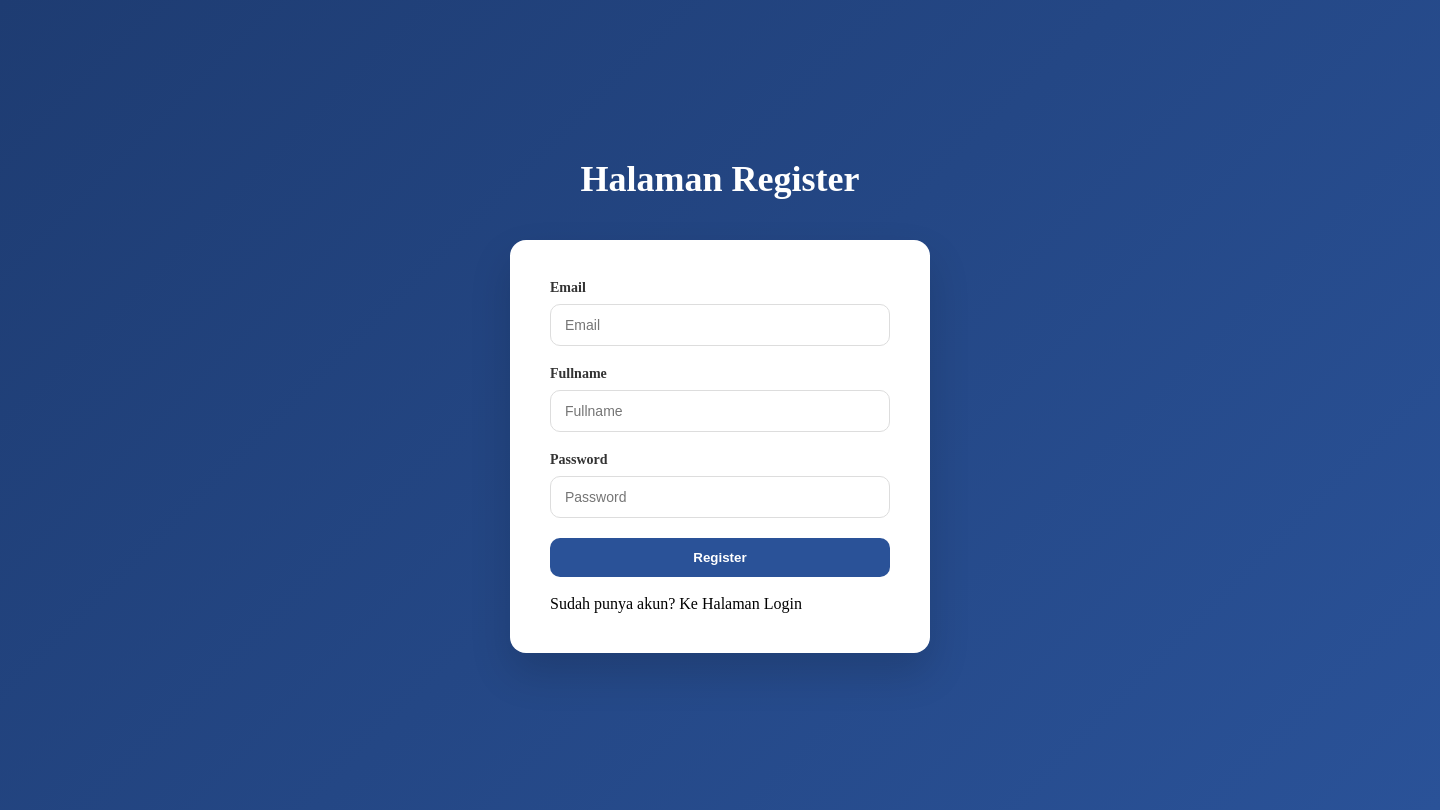
Test: register page › shows general error on failed registration
Click the button "Register" at (720, 557), box [550, 538, 890, 576]
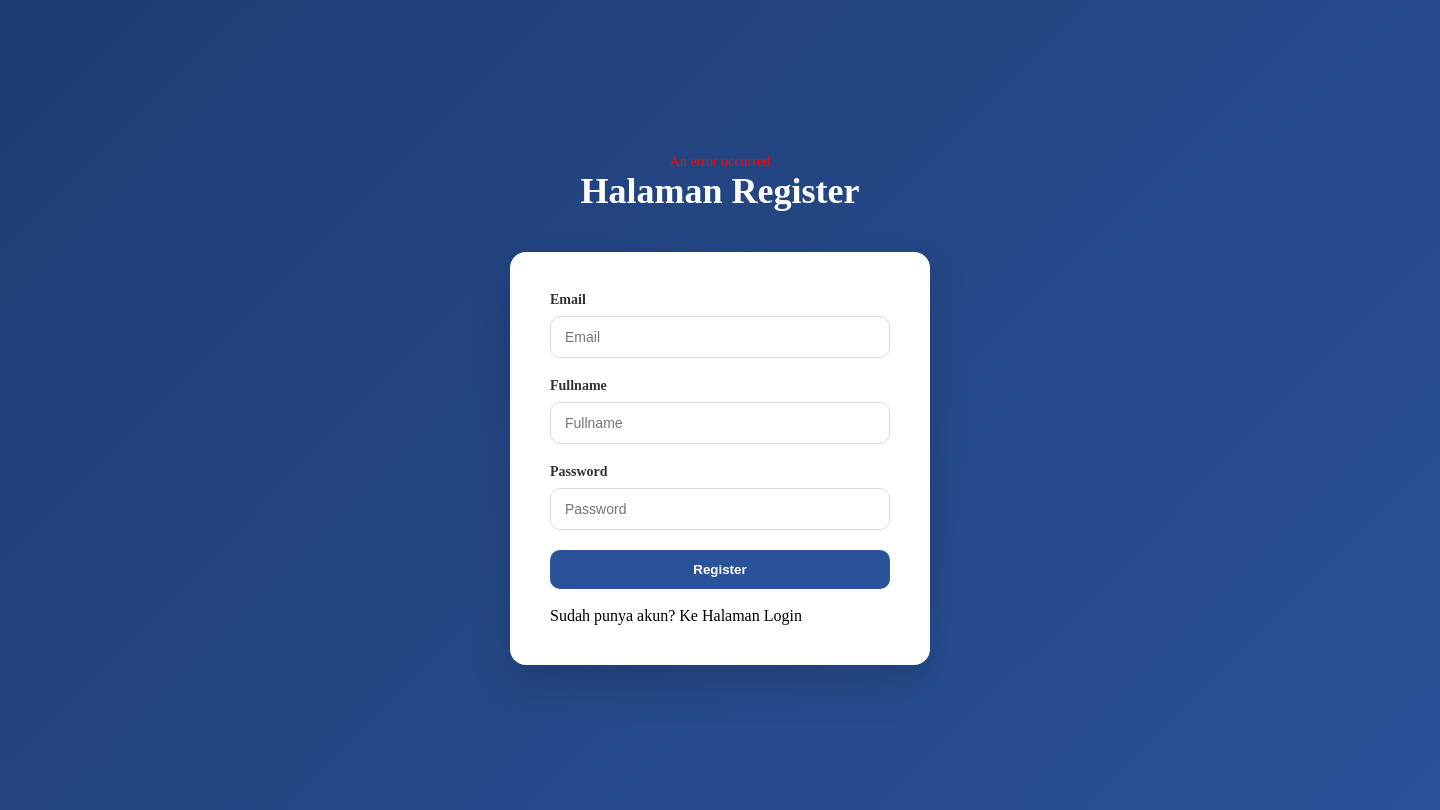
expect the text "An error occurred" is shown: met, box [670, 154, 770, 170]
